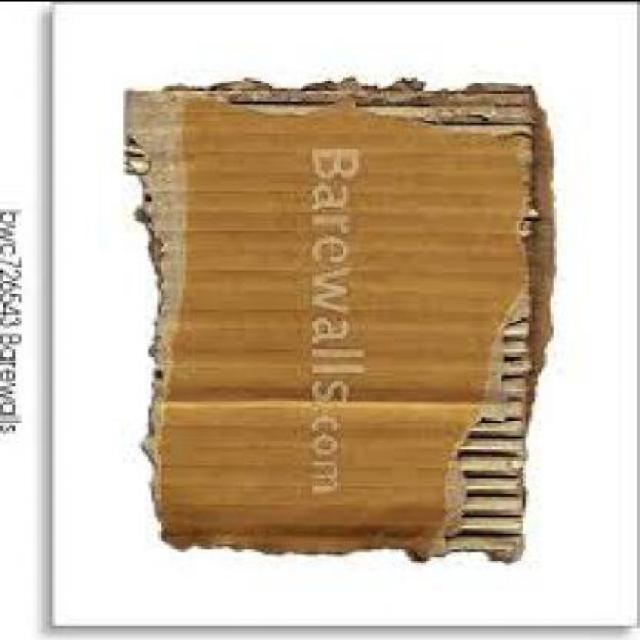CARDBOARD: (126, 74, 560, 558)
